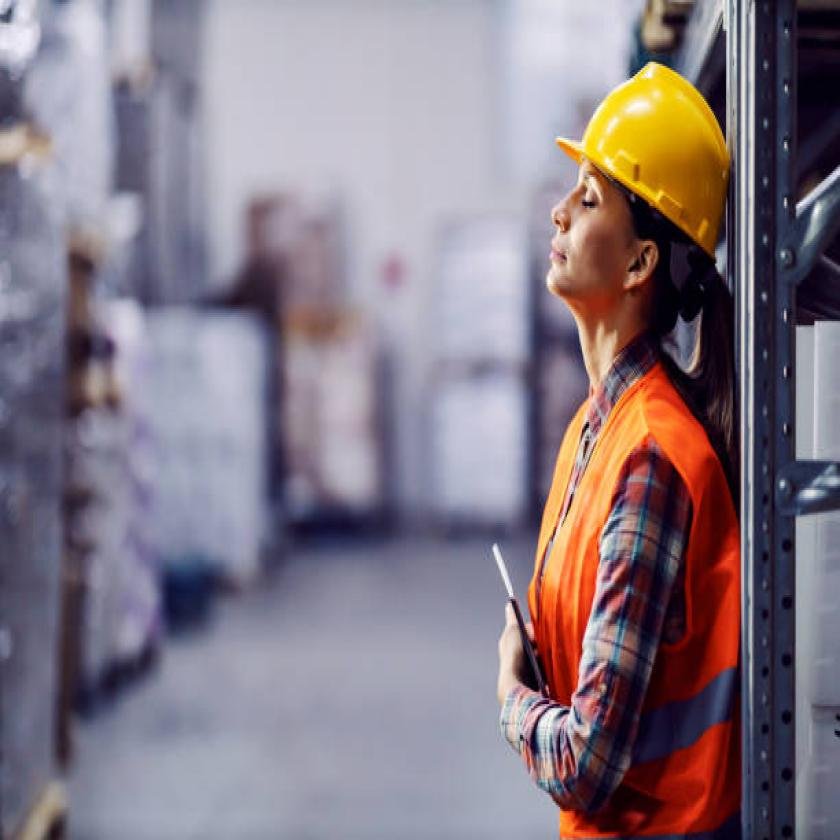Con_casco: (537, 54, 735, 342)
